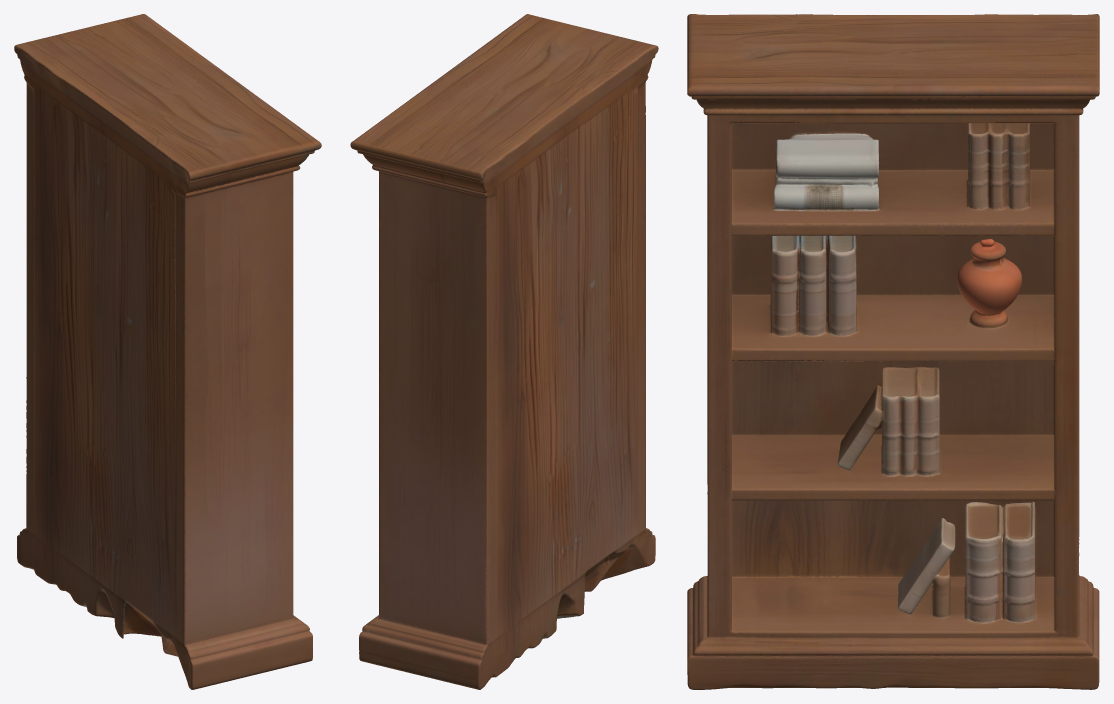
File: detailed_realistic_model_antiquebookshelf_07.glb
The picture shows the model from 3 angles, left to right: view 1: azimuth 30°, elevation 25°; view 2: azimuth 150°, elevation 25°; view 3: azimuth 270°, elevation 25°; orthographic projection. The views are drawn at different scales.
Parts seen in each view (by area): view 1: tripo_node_cf309897-eacd-4b9f-ae45-7eead9e2c5a6; view 2: tripo_node_cf309897-eacd-4b9f-ae45-7eead9e2c5a6; view 3: tripo_node_cf309897-eacd-4b9f-ae45-7eead9e2c5a6.
Boxes of the visible parts, x1=… form: tripo_node_cf309897-eacd-4b9f-ae45-7eead9e2c5a6: x1=14, y1=14, x2=321, y2=689; tripo_node_cf309897-eacd-4b9f-ae45-7eead9e2c5a6: x1=350, y1=14, x2=658, y2=689; tripo_node_cf309897-eacd-4b9f-ae45-7eead9e2c5a6: x1=687, y1=14, x2=1099, y2=689.
Size of the model in its own units: 0.2673 by 1 by 0.6159.
1 material, 1 textured.
